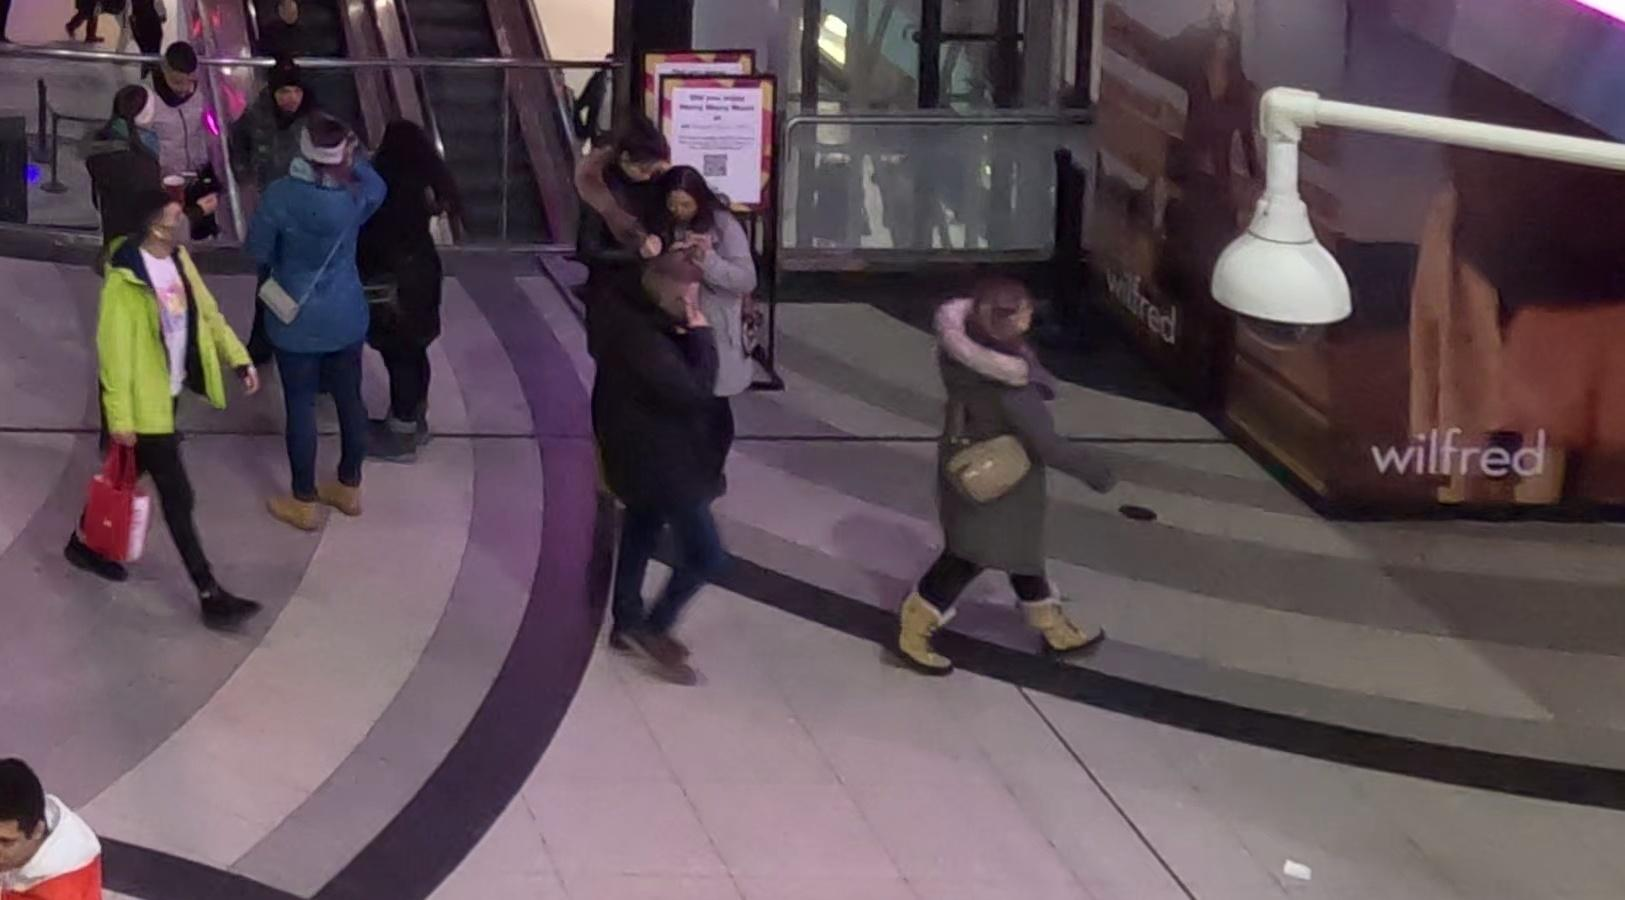person: (891, 277, 1115, 674), (578, 239, 734, 678), (67, 177, 222, 619), (257, 110, 391, 528), (350, 122, 459, 460), (651, 165, 757, 413), (2, 744, 166, 900)
